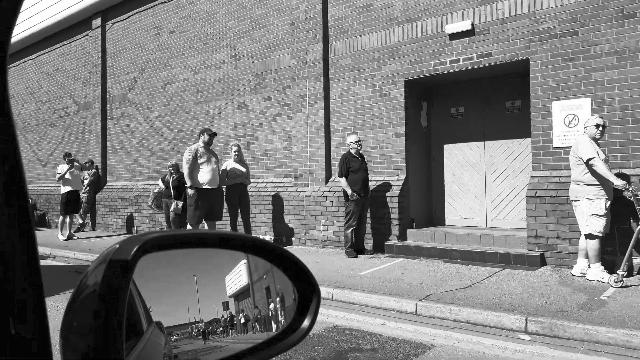berdiri: (562, 110, 628, 292), (336, 129, 372, 266)
